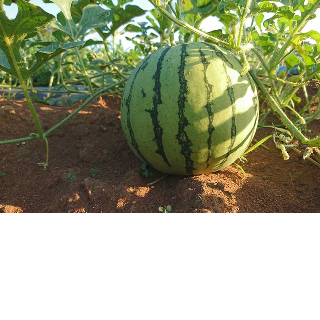dua_hau: (119, 36, 255, 174)
